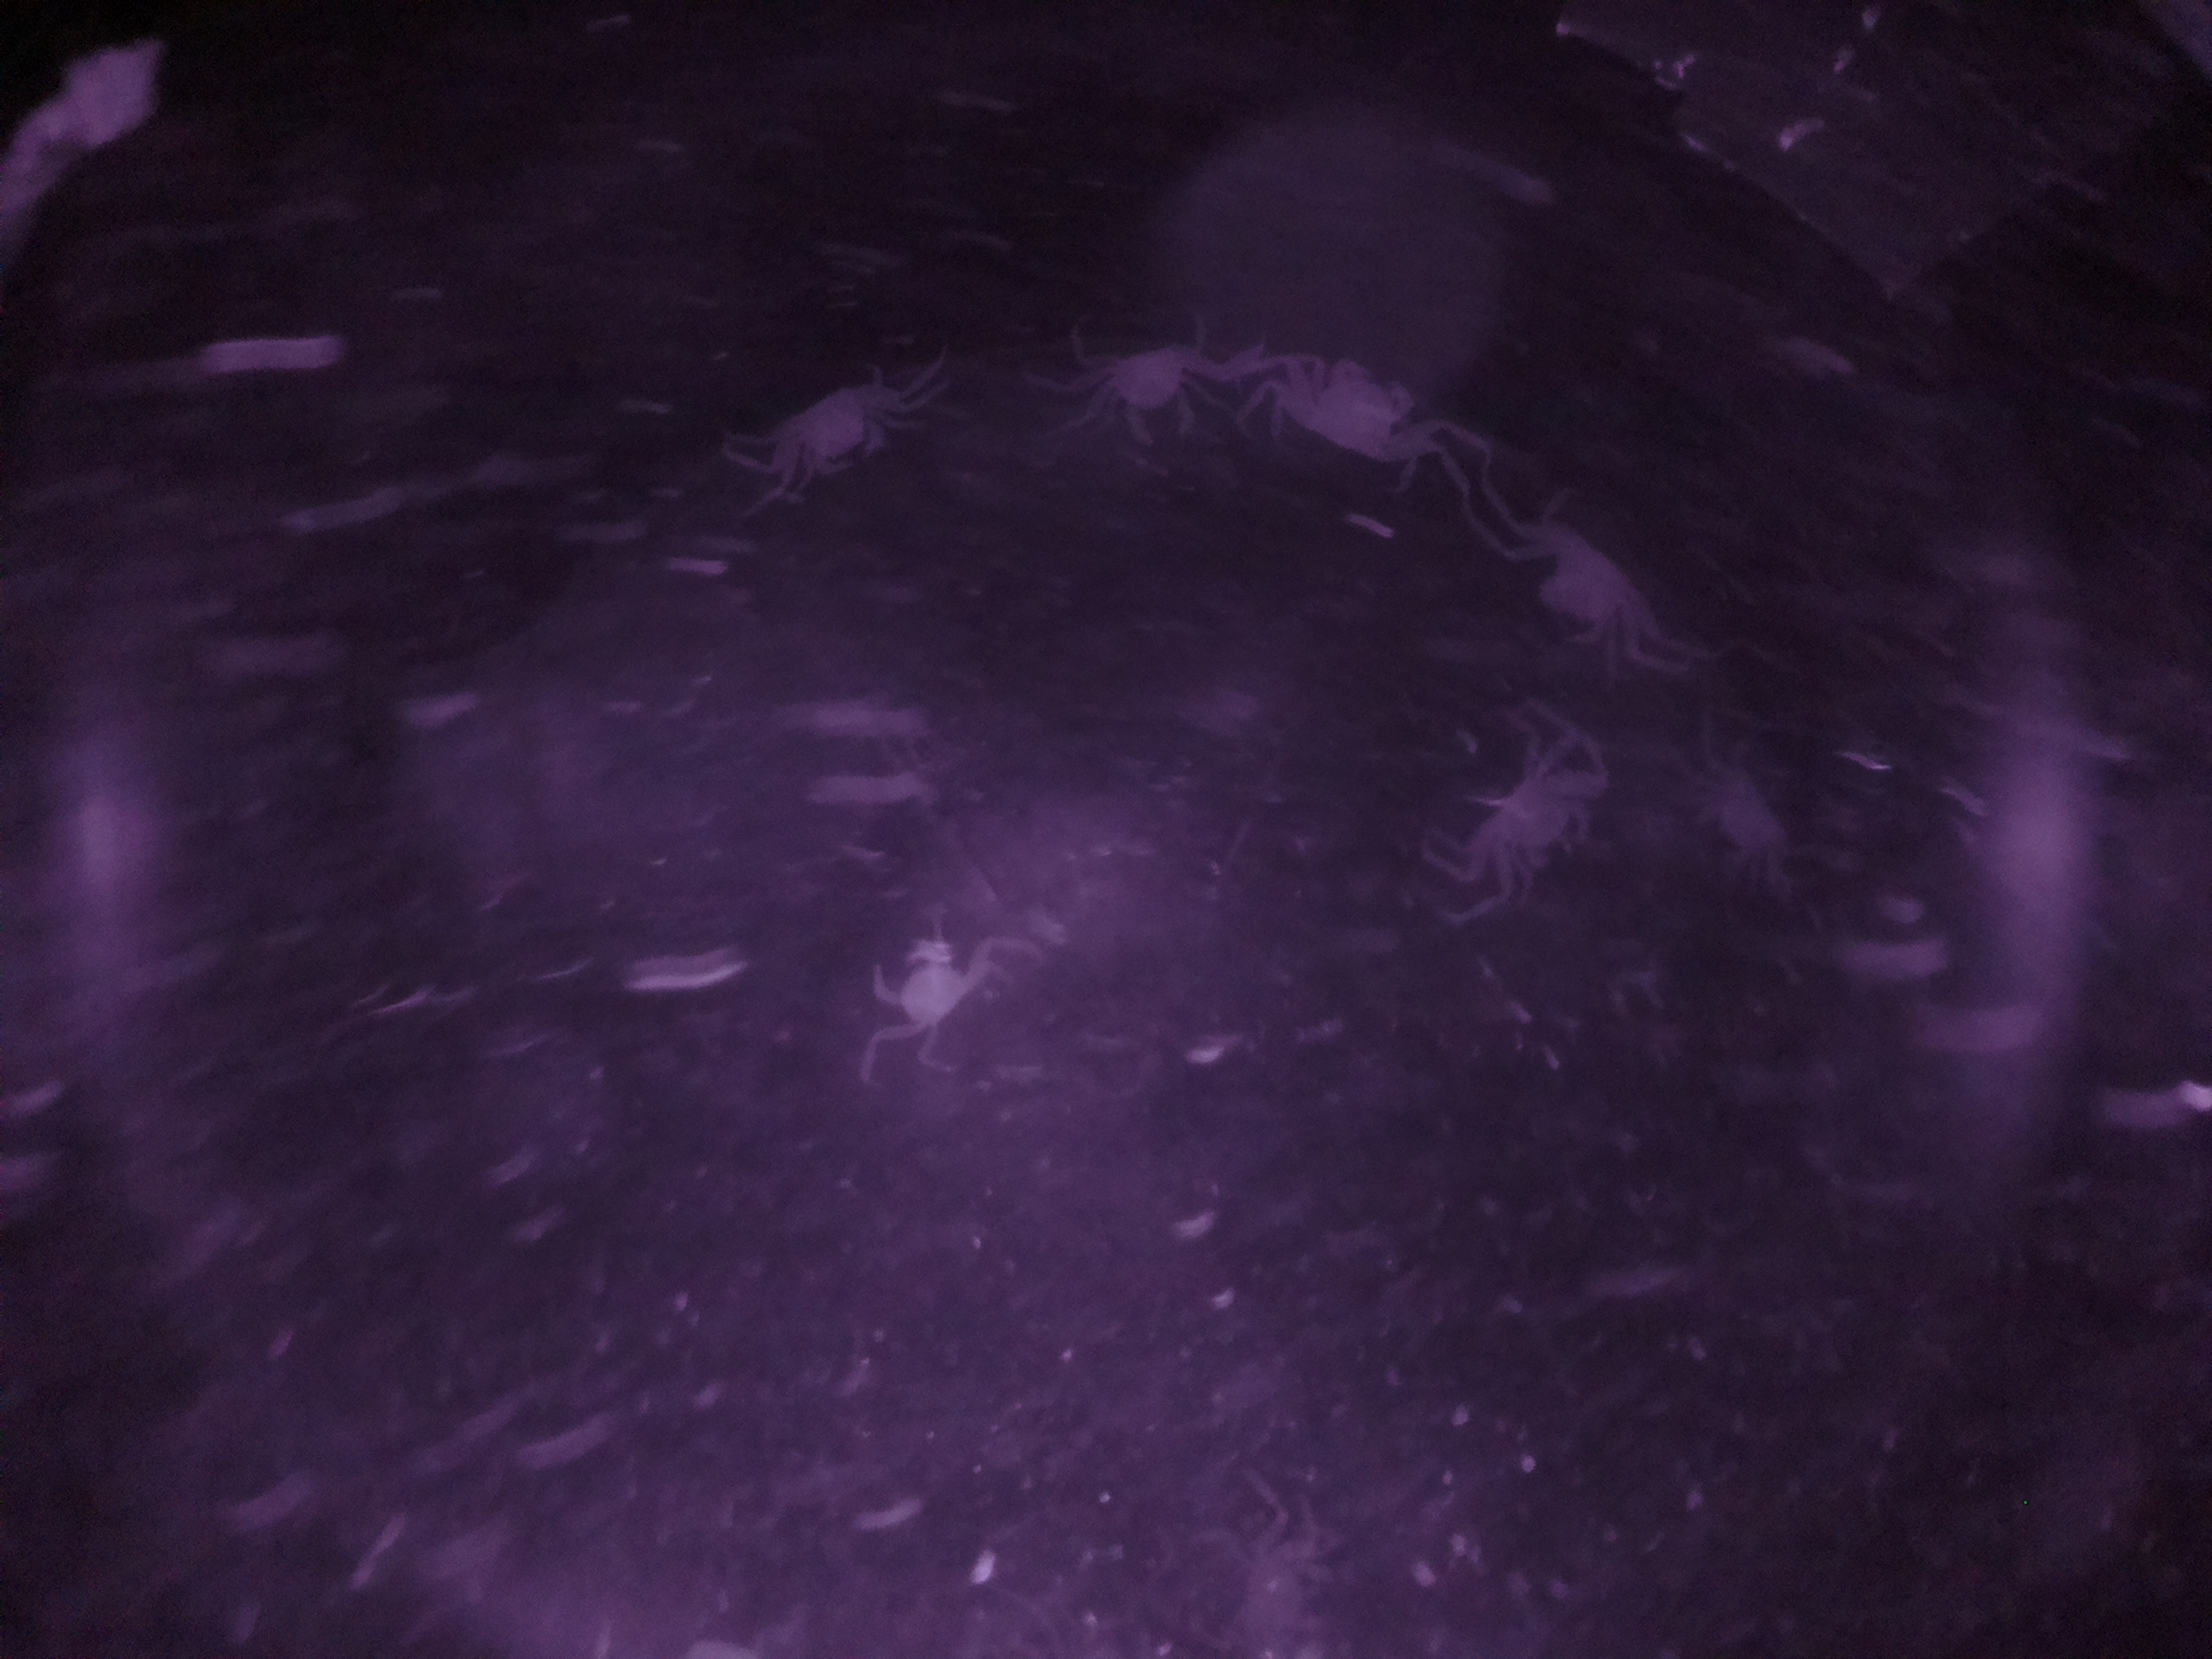Crab: (1449, 741, 1613, 903), (1273, 349, 1437, 477), (1087, 321, 1221, 462), (772, 369, 907, 493)
